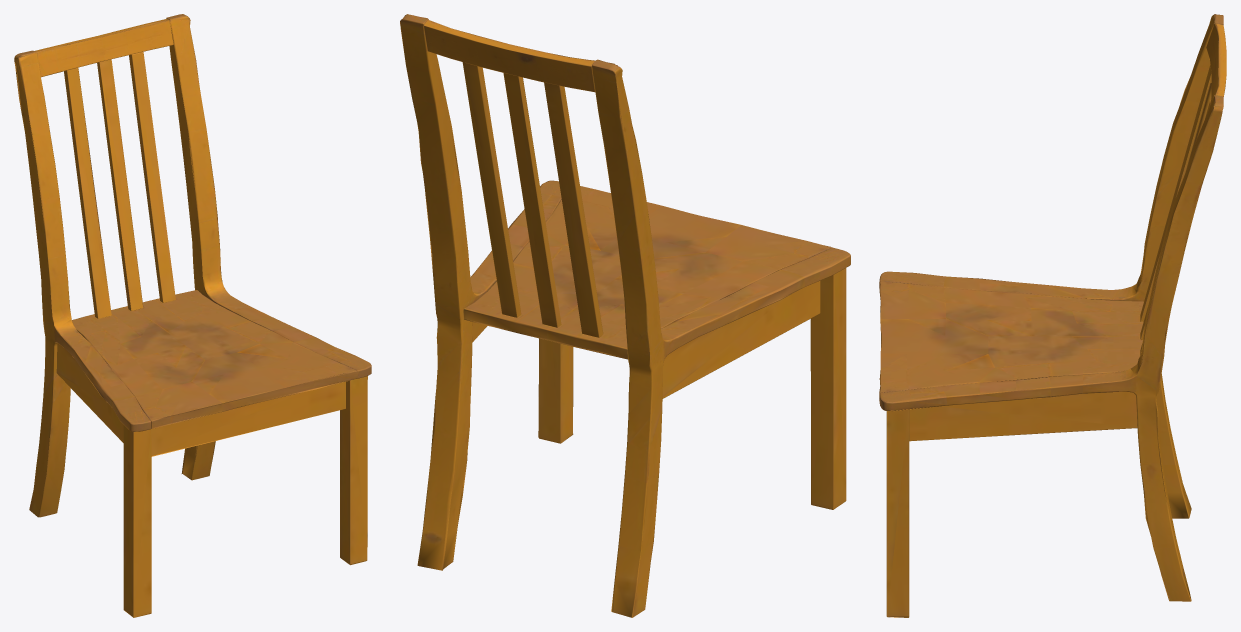
File: wooden_chair.glb
3 renders of one model, left to right at view 1: azimuth 30°, elevation 25°; view 2: azimuth 150°, elevation 25°; view 3: azimuth 270°, elevation 25°, orthographic. The views are drawn at different scales.
Bounding box in the file's own units: 0.5113 × 0.9 × 0.5714.
1 material, 1 textured.
